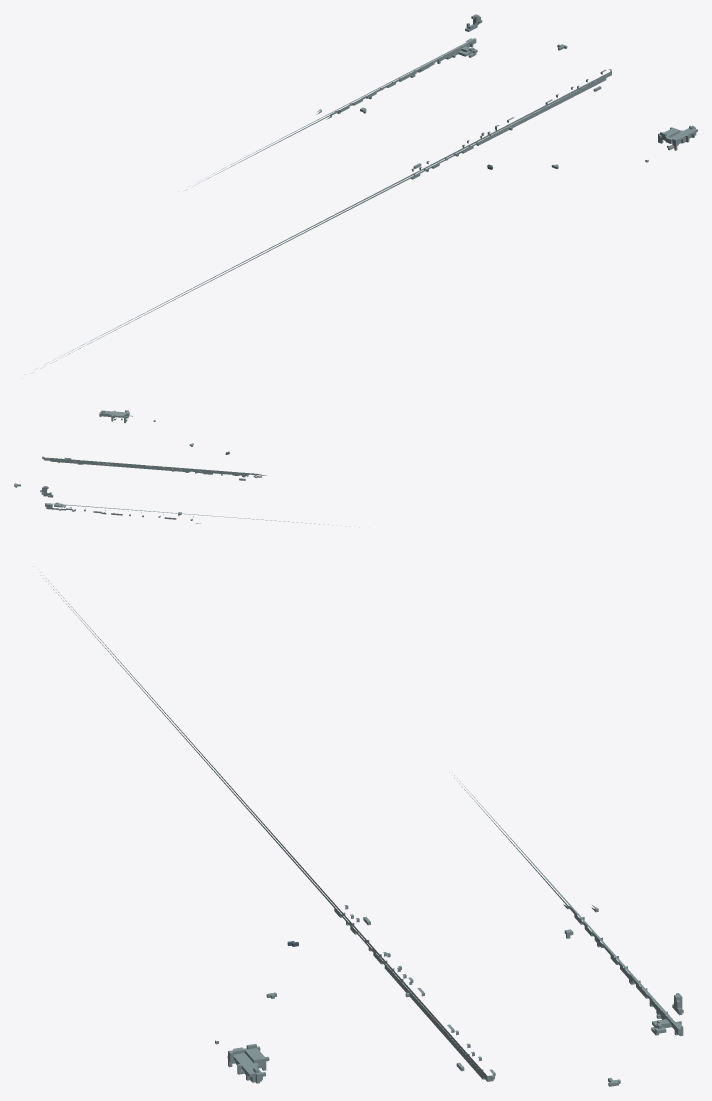
3 renders of one model, top to bottom at view 1: azimuth 30°, elevation 25°; view 2: azimuth 150°, elevation 25°; view 3: azimuth 270°, elevation 25°, orthographic. The views are drawn at different scales.
Parts seen in each view (by area): view 1: measured-industrial; view 2: measured-industrial; view 3: measured-industrial.
Part boxes in pixels (<box>): measured-industrial: <box>35,14,697,369</box>; measured-industrial: <box>14,410,359,527</box>; measured-industrial: <box>43,575,683,1086</box>.
Size of the model in its own units: 568 by 23.03 by 298.
